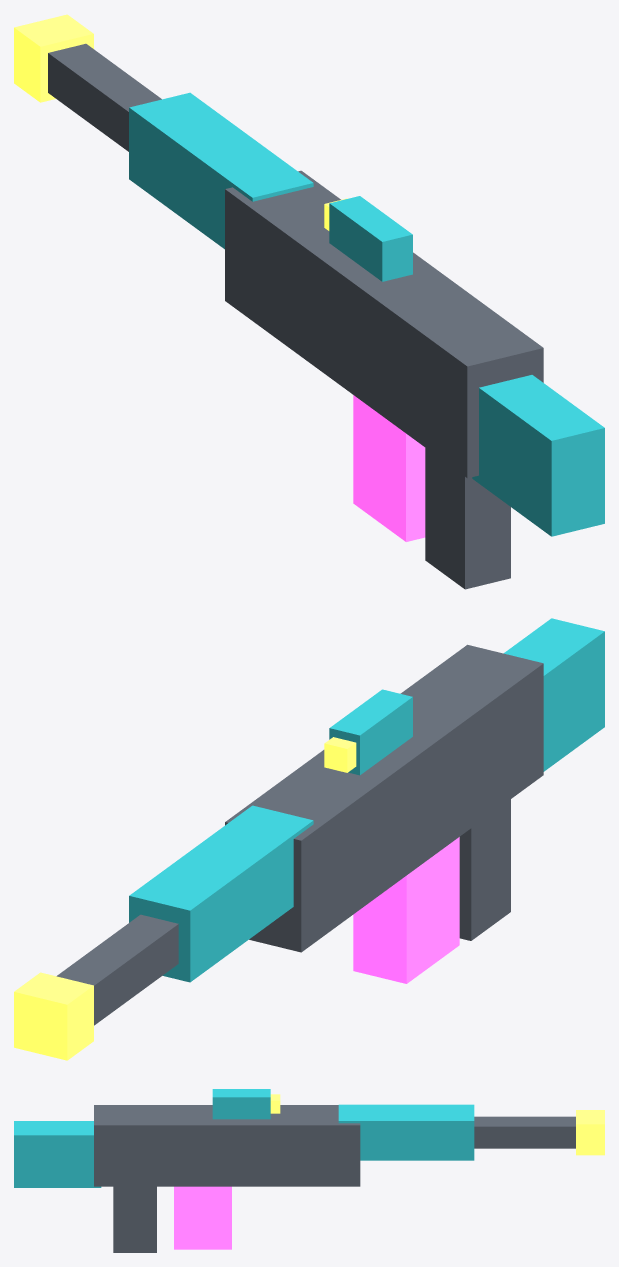
Rendered from chroma-pulse-rifle.gltf.
3 renders of one model, top to bottom at view 1: azimuth 30°, elevation 25°; view 2: azimuth 150°, elevation 25°; view 3: azimuth 270°, elevation 25°, orthographic. The views are drawn at different scales.
Visible parts, largest first — view 1: Receiver, Stock, BarrelShroud, Grip, EnergyCell, Barrel, SightRail, MuzzleEmitter; view 2: Receiver, BarrelShroud, EnergyCell, Stock, Barrel, MuzzleEmitter, Grip, SightRail, SightLens; view 3: Receiver, BarrelShroud, Stock, EnergyCell, Barrel, Grip, SightRail, MuzzleEmitter.
Boxes of the visible parts, x1,y1,x2,y2 form: Receiver: [225, 170, 543, 478]; Stock: [472, 375, 604, 536]; BarrelShroud: [129, 92, 313, 249]; Grip: [425, 448, 510, 589]; EnergyCell: [353, 395, 425, 541]; Barrel: [48, 43, 161, 151]; SightRail: [329, 196, 412, 281]; MuzzleEmitter: [14, 14, 93, 102]; Receiver: [225, 644, 543, 952]; BarrelShroud: [129, 805, 313, 982]; EnergyCell: [353, 837, 459, 983]; Stock: [503, 618, 604, 771]; Barrel: [56, 914, 178, 1025]; MuzzleEmitter: [14, 972, 93, 1060]; Grip: [459, 799, 510, 940]; SightRail: [329, 689, 412, 775]; SightLens: [324, 737, 356, 772]; Receiver: [94, 1105, 360, 1186]; BarrelShroud: [338, 1104, 474, 1160]; Stock: [14, 1121, 101, 1187]; EnergyCell: [174, 1186, 231, 1249]; Barrel: [474, 1116, 575, 1148]; Grip: [113, 1186, 156, 1252]; SightRail: [212, 1089, 270, 1119]; MuzzleEmitter: [576, 1110, 604, 1155].
Size of the model in its own units: 0.1 by 0.35 by 1.22.
